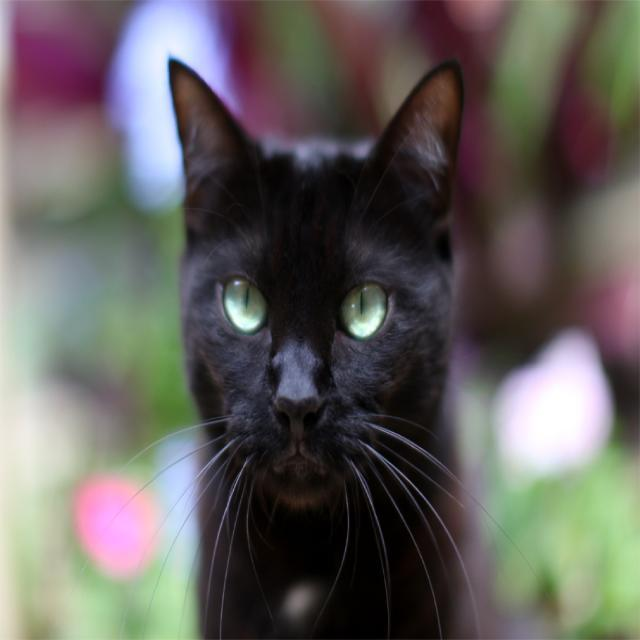Bombay: (169, 58, 464, 504)
